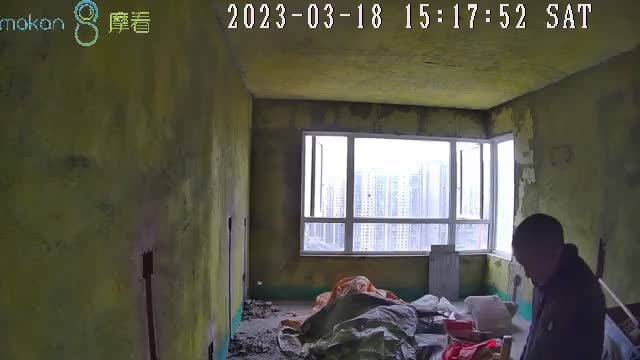people: (511, 213, 605, 358)
window: (300, 131, 515, 257)
